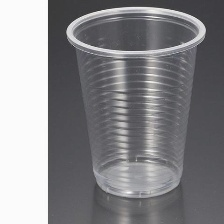glass: (61, 4, 210, 204)
